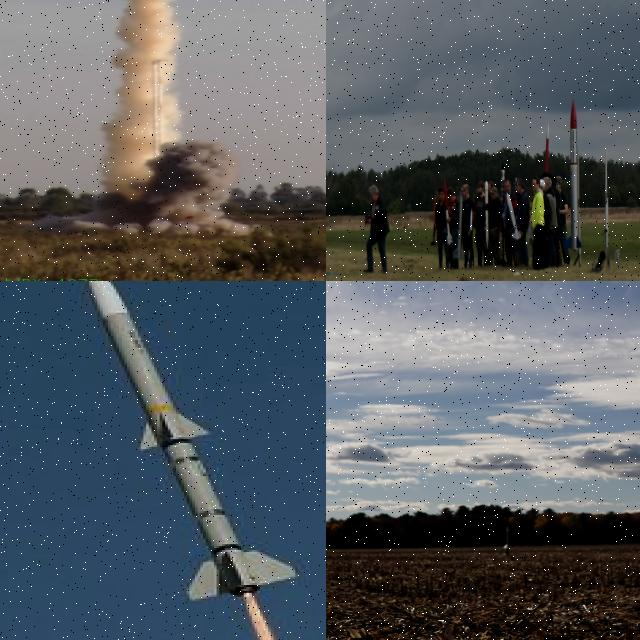Rocket: (77, 281, 302, 605), (564, 100, 582, 250), (506, 192, 522, 240), (454, 194, 464, 258), (443, 178, 452, 245), (484, 181, 490, 250), (431, 191, 436, 246), (545, 122, 549, 187), (501, 157, 505, 213), (504, 526, 510, 547), (470, 207, 472, 230)
